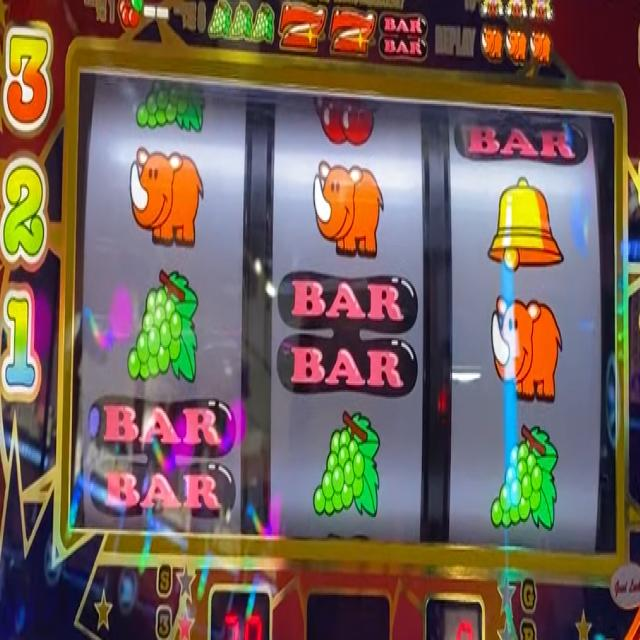bar: (85, 394, 238, 522), (278, 268, 420, 400), (453, 111, 589, 167), (379, 8, 429, 65)
bell: (486, 172, 564, 274)
cherry: (313, 92, 382, 148), (117, 0, 143, 30)
clown: (528, 0, 554, 24), (479, 0, 505, 17), (507, 0, 528, 20)
display: (68, 71, 618, 554)
elephant: (491, 291, 564, 405), (128, 144, 204, 250), (311, 156, 385, 260), (480, 24, 503, 64), (506, 28, 527, 66), (530, 30, 552, 66)
grape: (126, 263, 199, 387), (312, 406, 381, 523), (490, 421, 560, 534), (136, 83, 206, 136), (253, 0, 276, 44), (207, 0, 232, 39), (232, 0, 253, 39)
z: (277, 0, 328, 53), (329, 5, 378, 60)
